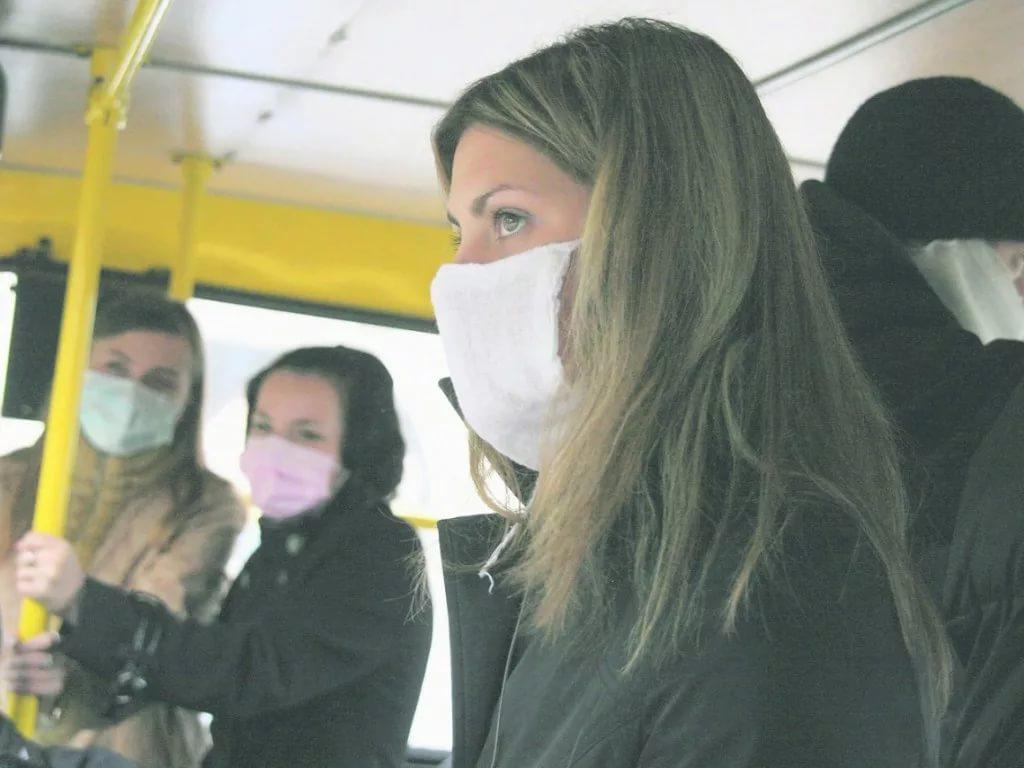mask: (421, 140, 619, 472), (73, 300, 194, 456), (244, 356, 348, 523)
